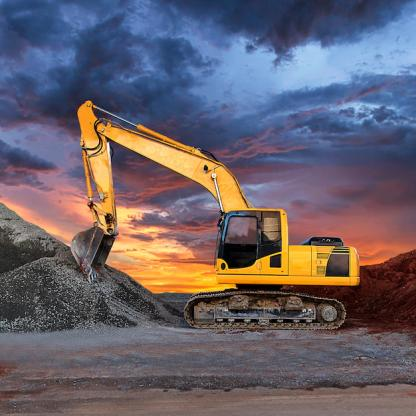excavator: (57, 92, 370, 343)
